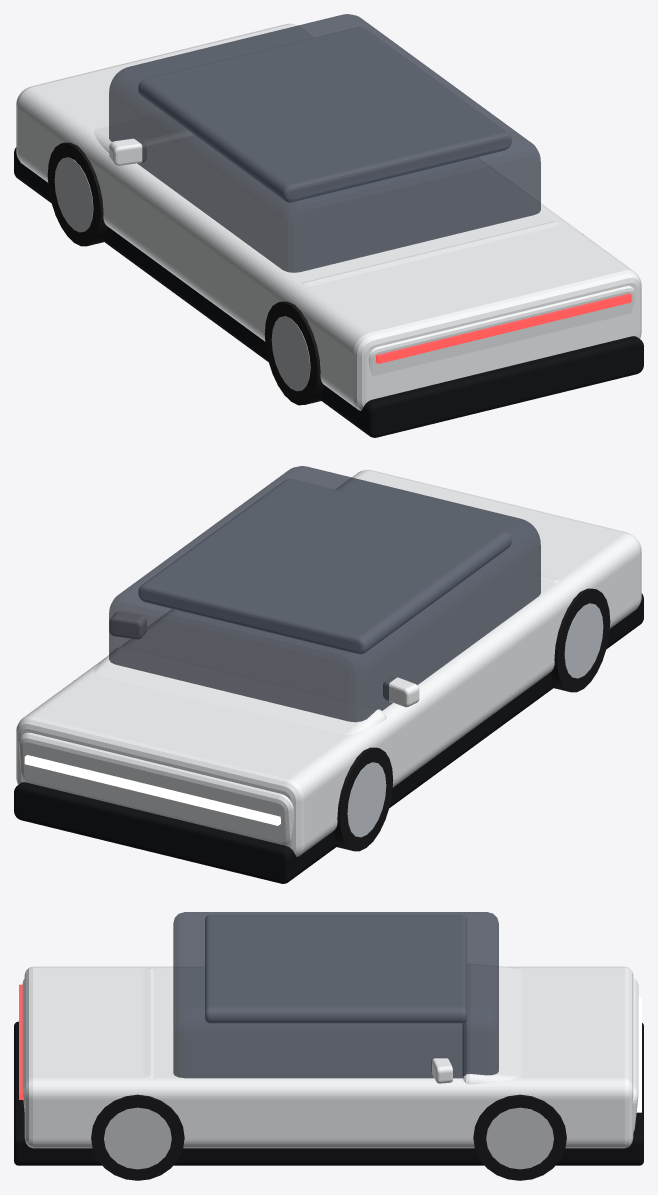
The model's file is car_sedan.glb.
3 views of the same model, one above another, from view 1: azimuth 30°, elevation 25°; view 2: azimuth 150°, elevation 25°; view 3: azimuth 270°, elevation 25° (orthographic). The views are drawn at different scales.
Visible parts, largest first — view 1: Car_Sedan_Body; view 2: Car_Sedan_Body; view 3: Car_Sedan_Body.
Part boxes in pixels (x1,y1,x2,y2): Car_Sedan_Body: (14, 14, 643, 437); Car_Sedan_Body: (14, 466, 643, 883); Car_Sedan_Body: (14, 912, 643, 1180).
Bounding box in the file's own units: 2.19 × 1.23 × 4.45.
